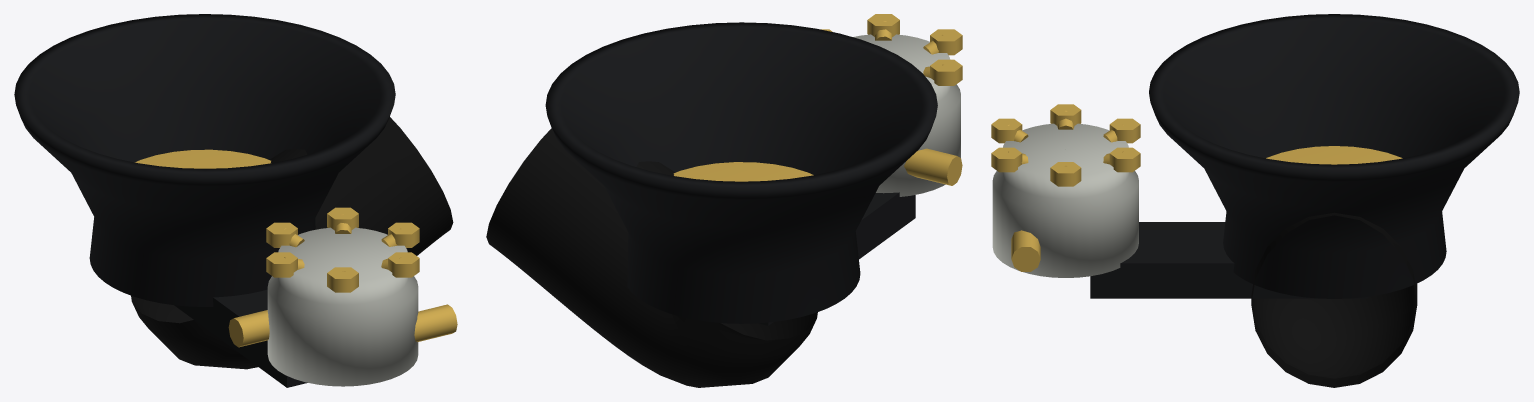
The model's file is mixture-control-unit.glb.
3 renders of one model, left to right at view 1: azimuth 30°, elevation 25°; view 2: azimuth 150°, elevation 25°; view 3: azimuth 270°, elevation 25°, orthographic. The views are drawn at different scales.
Visible parts, largest first — view 1: mixture-control-unit:blackPaint, mixture-control-unit:zincPlate, mixture-control-unit:rubber, mixture-control-unit:brass; view 2: mixture-control-unit:blackPaint, mixture-control-unit:rubber, mixture-control-unit:brass, mixture-control-unit:zincPlate; view 3: mixture-control-unit:blackPaint, mixture-control-unit:zincPlate, mixture-control-unit:rubber, mixture-control-unit:brass.
Part boxes in pixels (box(x1,y1,x2,y2)): mixture-control-unit:blackPaint: box(14, 14, 395, 387); mixture-control-unit:zincPlate: box(267, 227, 418, 386); mixture-control-unit:rubber: box(131, 117, 453, 369); mixture-control-unit:brass: box(135, 149, 457, 347); mixture-control-unit:blackPaint: box(545, 22, 937, 325); mixture-control-unit:rubber: box(486, 128, 817, 387); mixture-control-unit:brass: box(673, 14, 962, 185); mixture-control-unit:zincPlate: box(853, 34, 960, 196); mixture-control-unit:blackPaint: box(1090, 14, 1519, 298); mixture-control-unit:zincPlate: box(992, 123, 1138, 277); mixture-control-unit:rubber: box(1251, 212, 1417, 387); mixture-control-unit:brass: box(991, 104, 1402, 271).
Bounding box in the file's own units: 180 × 121 × 217.
